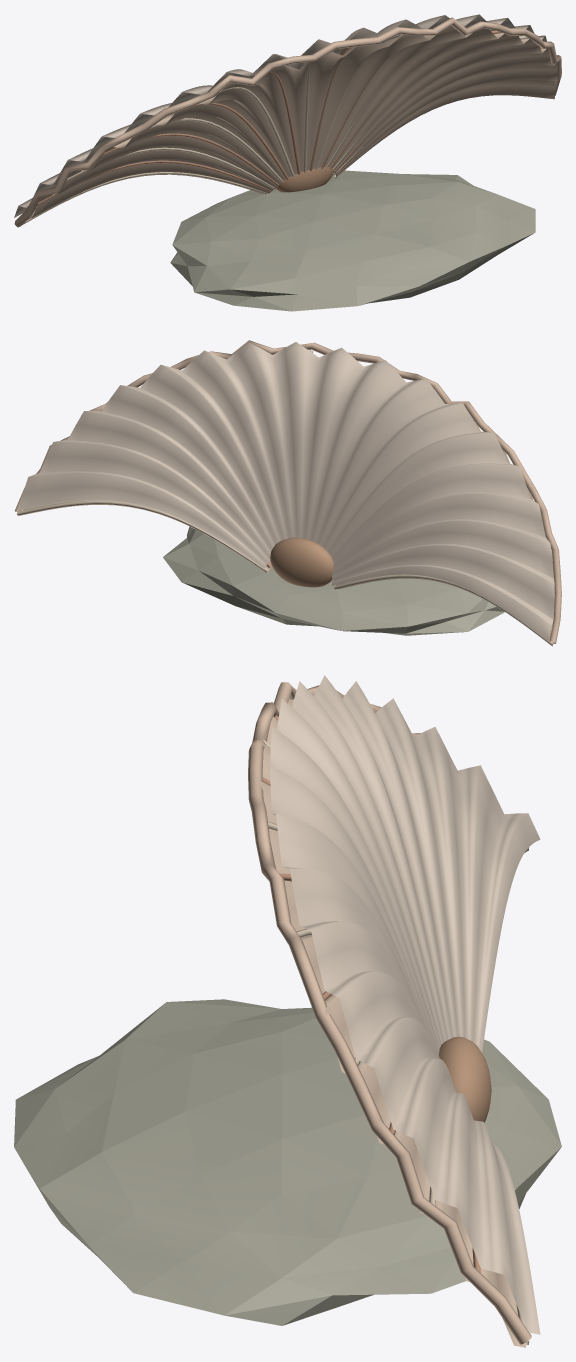
Rendered from seashell.glb.
3 renders of one model, top to bottom at view 1: azimuth 30°, elevation 25°; view 2: azimuth 150°, elevation 25°; view 3: azimuth 270°, elevation 25°, orthographic. The views are drawn at different scales.
Parts seen in each view (by area): view 1: seashell-porcelain, seashell-stone; view 2: seashell-porcelain, seashell-stone; view 3: seashell-stone, seashell-porcelain.
Boxes of the visible parts, x1,y1,x2,y2 form: seashell-porcelain: [14, 14, 561, 227]; seashell-stone: [170, 170, 535, 311]; seashell-porcelain: [15, 340, 561, 646]; seashell-stone: [163, 526, 504, 635]; seashell-stone: [14, 999, 561, 1325]; seashell-porcelain: [248, 675, 540, 1347].
Bounding box in the file's own units: 2.89 × 1.2 × 1.33.
